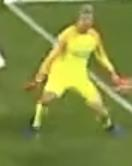goalkeeper: (19, 0, 132, 147)
